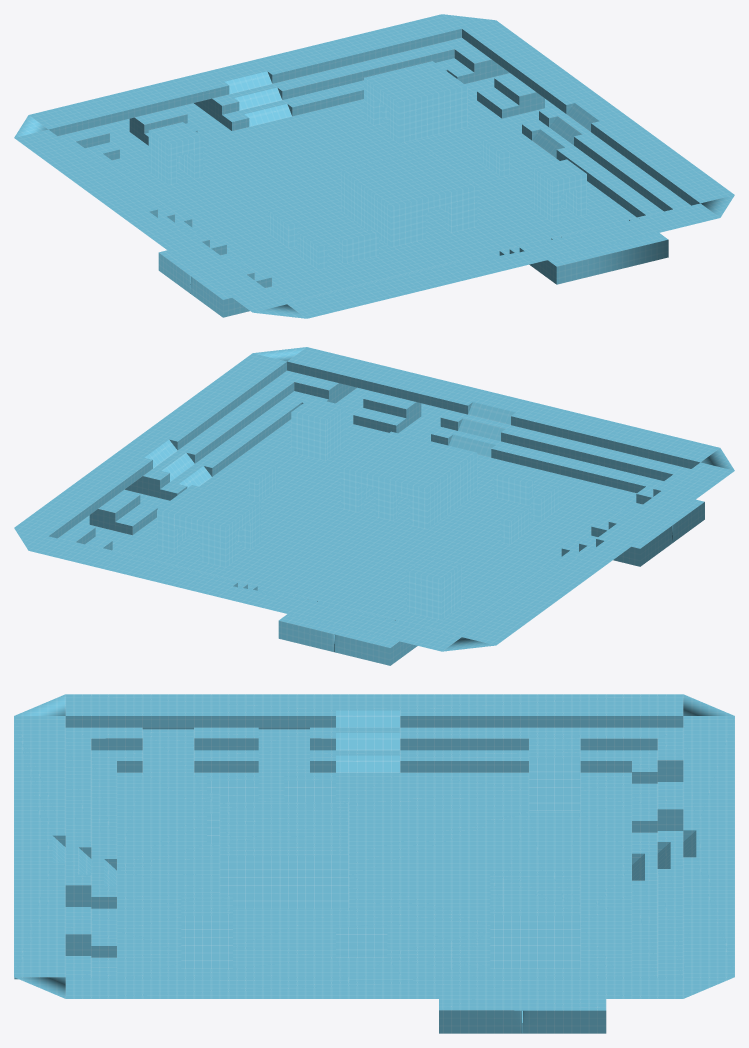
3 renders of one model, top to bottom at view 1: azimuth 30°, elevation 25°; view 2: azimuth 150°, elevation 25°; view 3: azimuth 270°, elevation 25°, orthographic. The views are drawn at different scales.
Parts seen in each view (by area): view 1: Ground; view 2: Ground; view 3: Ground.
Boxes of the visible parts, x1,y1,x2,y2 form: Ground: [14, 14, 734, 318]; Ground: [14, 347, 734, 665]; Ground: [14, 694, 734, 1033].
Size of the model in its own units: 84 by 6.75 by 84.
